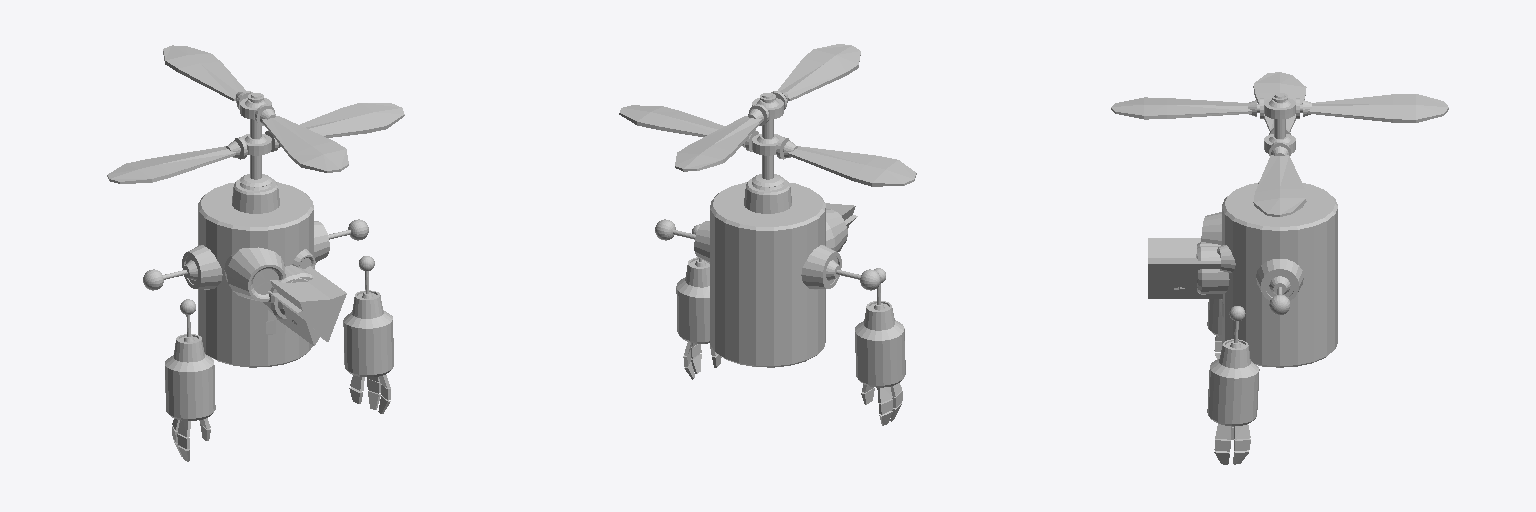
Rendered from robothead-propellerhead-01.obj.
The picture shows the model from 3 angles: view 1: azimuth 30°, elevation 25°; view 2: azimuth 150°, elevation 25°; view 3: azimuth 270°, elevation 25°; orthographic projection.
Visible parts, largest first — view 1: Head, BodyArms, HandRightCol, HandLeftCol; view 2: Head, BodyArms; view 3: Head, BodyArms, HandRightCol, HandRight, HandLeftCol.
Part boxes in pixels (left/top/right/bottom): Head: left=107, top=45, right=404, bottom=367; BodyArms: left=165, top=256, right=393, bottom=461; HandRightCol: left=268, top=266, right=346, bottom=341; HandLeftCol: left=270, top=280, right=330, bottom=345; Head: left=619, top=44, right=916, bottom=367; BodyArms: left=676, top=224, right=905, bottom=425; Head: left=1111, top=72, right=1448, bottom=367; BodyArms: left=1207, top=299, right=1259, bottom=464; HandRightCol: left=1148, top=258, right=1222, bottom=298; HandRight: left=1174, top=246, right=1229, bottom=294; HandLeftCol: left=1148, top=238, right=1200, bottom=257.
Size of the model in its own units: 0.5933 by 0.625 by 0.5933.